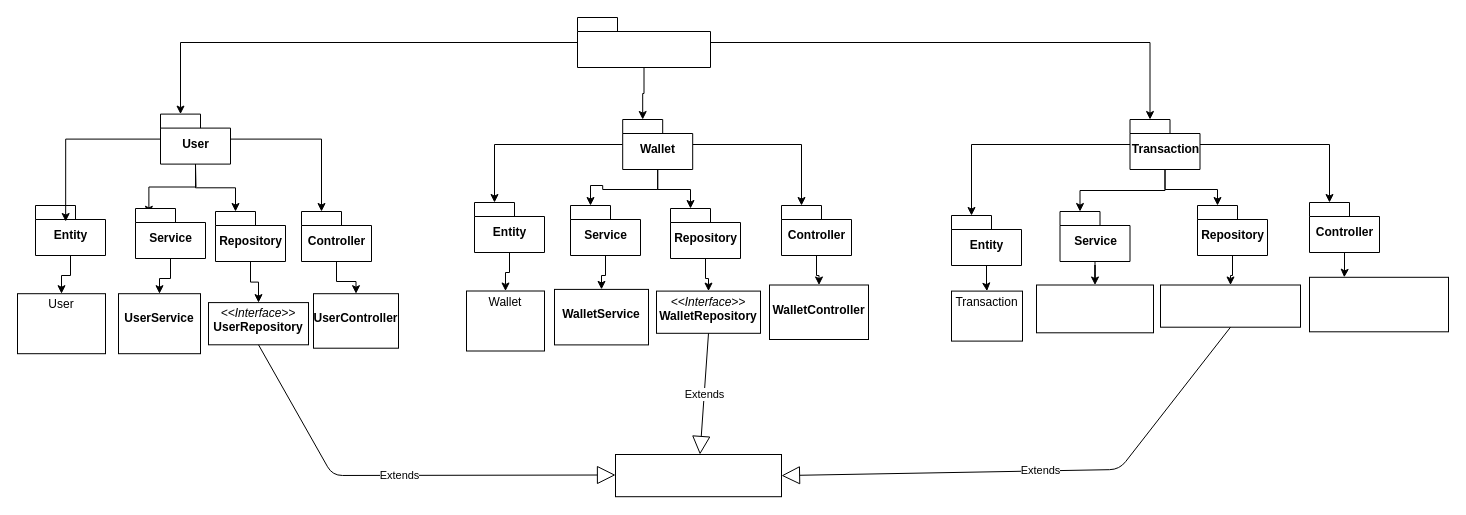
The diagram is 1466 pixels wide and 515 high, and some of its shapes have lost their labels. The shapes that lost their labels are listed below. From the top down, each one's centre as x and y in pixels, then its label:
At (643,42): "com.paytm.inpg".
At (1095,308): "TransactionService".
At (1230,305): "<<Interface>> TransactionRepository".
At (1378,304): "TransactionController".
At (698,475): "<<Interface>> jpaRepository".
